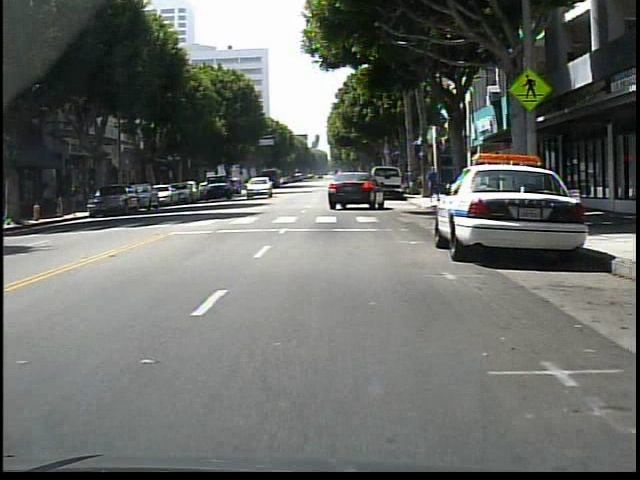person: (426, 164, 447, 206)
